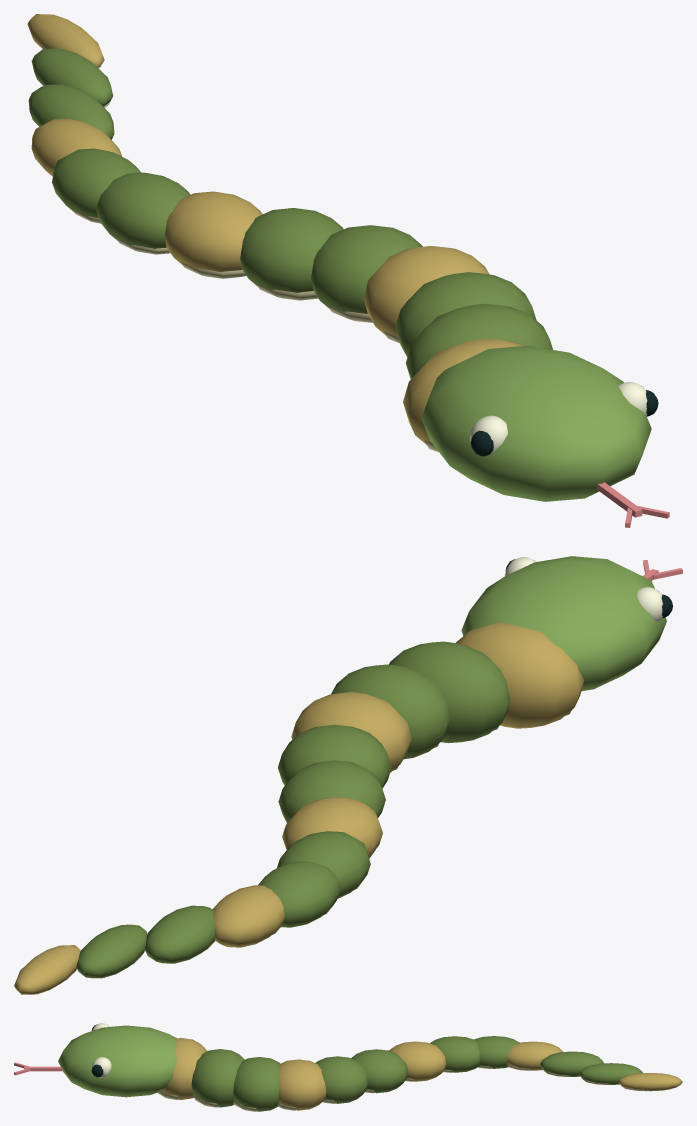
Rendered from snake.glb.
3 renders of one model, top to bottom at view 1: azimuth 30°, elevation 25°; view 2: azimuth 150°, elevation 25°; view 3: azimuth 270°, elevation 25°, orthographic. The views are drawn at different scales.
Visible parts, largest first — view 1: scale (×13), head; view 2: scale (×13), head; view 3: scale (×13), head, eye-white, tongue.
Part boxes in pixels (x1=…): scale (×13): x1=27, y1=14, x2=552, y2=444; head: x1=421, y1=345, x2=651, y2=501; scale (×13): x1=14, y1=622, x2=584, y2=994; head: x1=461, y1=556, x2=666, y2=691; scale (×13): x1=162, y1=1036, x2=682, y2=1111; head: x1=58, y1=1025, x2=177, y2=1097; eye-white: x1=91, y1=1057, x2=111, y2=1077; tongue: x1=24, y1=1066, x2=62, y2=1071.
Size of the model in its own units: 1.61 by 0.82 by 8.04.
